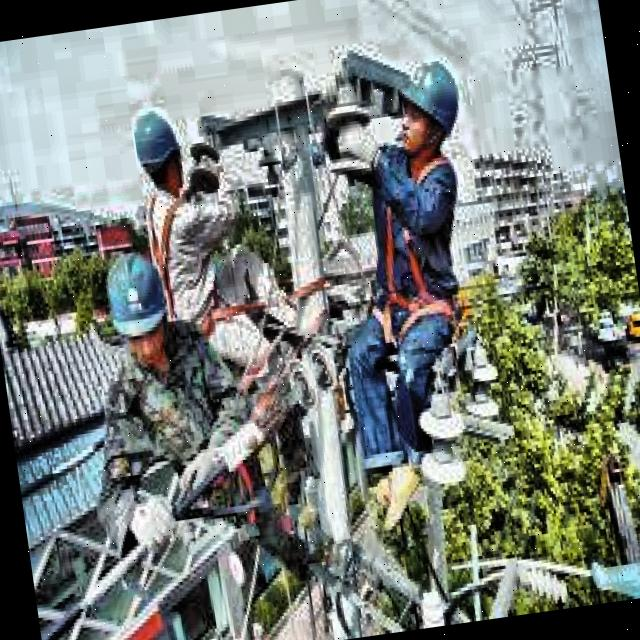helmet: (380, 45, 474, 167), (96, 236, 176, 378), (129, 102, 189, 206)
